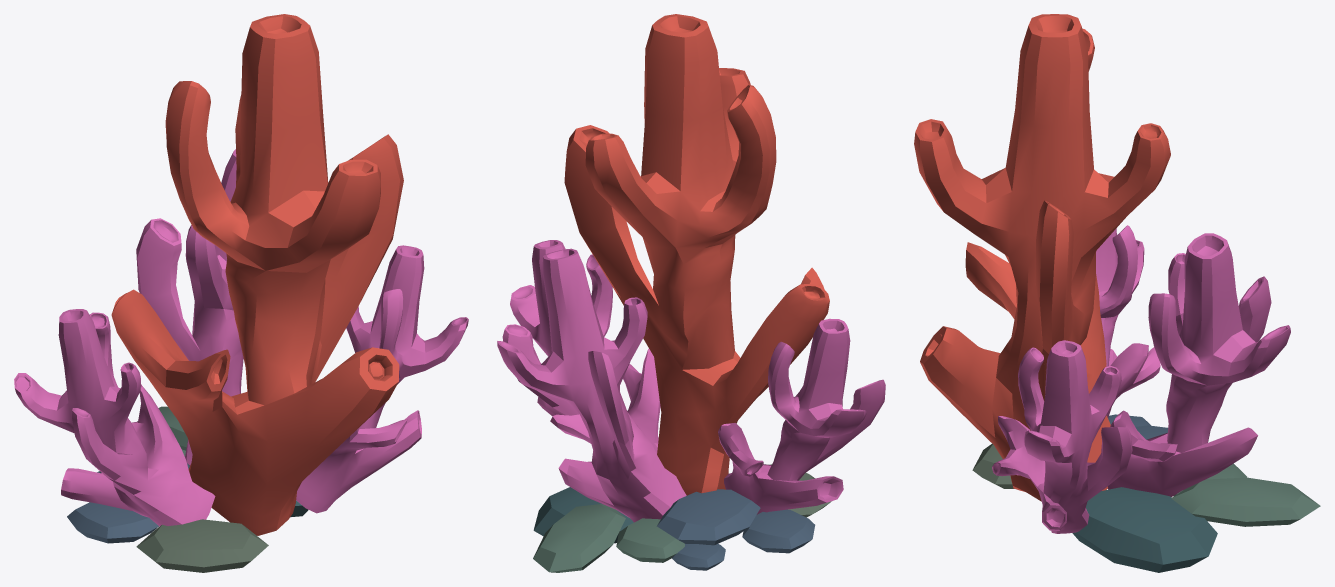
Rendered from coral big 3.fbx.
The picture shows the model from 3 angles, left to right: view 1: azimuth 30°, elevation 25°; view 2: azimuth 150°, elevation 25°; view 3: azimuth 270°, elevation 25°; orthographic projection. The views are drawn at different scales.
Visible parts, largest first — view 1: coral 2, coral 2.002, coral 2.001, coral 2.003, coral 2.009, coral 2.008; view 2: coral 2, coral 2.003, coral 2.002, coral 2.001, coral 2.004, coral 2.007, coral 2.008, coral 2.005, coral 2.010, pebble; view 3: coral 2, coral 2.003, coral 2.001, coral 2.010, coral 2.002, coral 2.004, coral 2.009.
Part boxes in pixels (x1,y1,x2,y2): coral 2: (111,14,403,535); coral 2.002: (14,309,215,526); coral 2.001: (296,245,468,513); coral 2.003: (136,149,243,465); coral 2.009: (136,519,268,572); coral 2.008: (67,502,158,543); coral 2: (564,14,829,495); coral 2.003: (497,248,686,522); coral 2.002: (718,318,885,514); coral 2.001: (502,240,660,453); coral 2.004: (533,504,625,572); coral 2.007: (657,489,760,545); coral 2.008: (742,509,815,553); coral 2.005: (616,518,684,562); coral 2.010: (533,487,633,543); pebble: (672,544,725,570); coral 2: (914,14,1170,501); coral 2.003: (1107,233,1290,496); coral 2.001: (992,340,1132,533); coral 2.010: (1072,487,1217,572); coral 2.002: (1096,225,1160,417); coral 2.004: (1171,477,1320,526); coral 2.009: (972,443,1014,488).
Size of the model in its own units: 1189 by 1432 by 1030.
